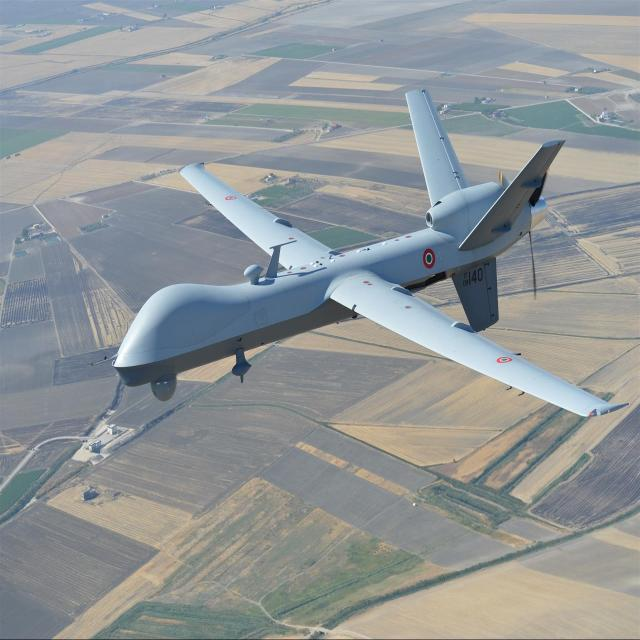MQ9: (65, 64, 632, 496)
